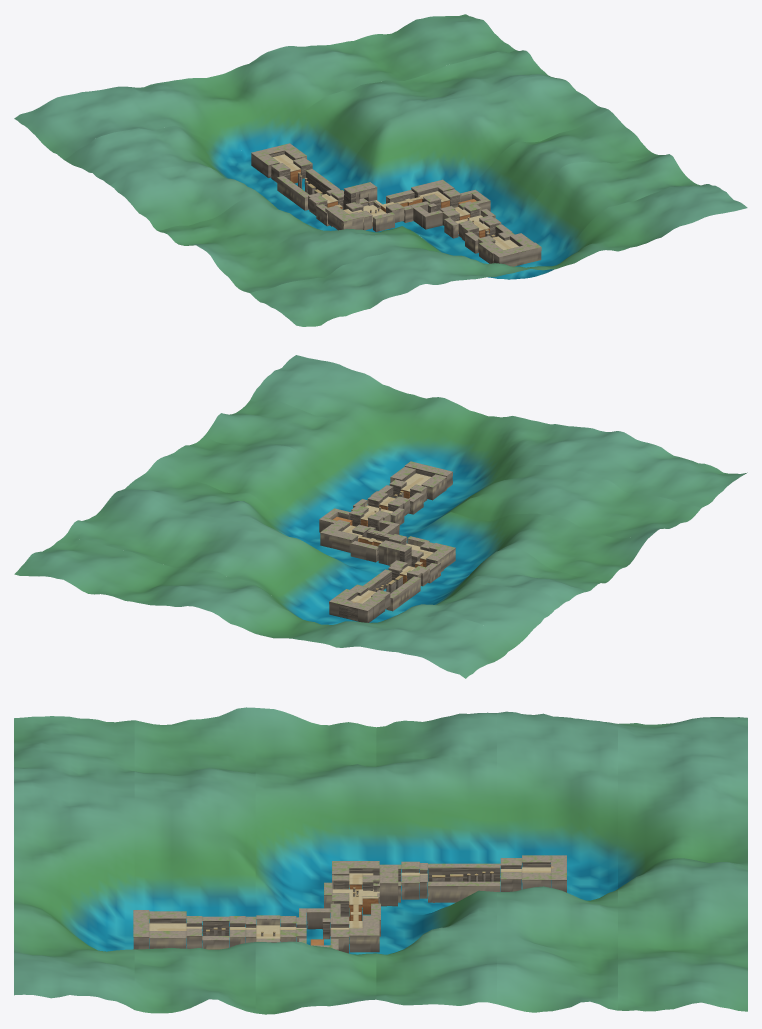
File: coral_cove_terrain.glb
3 views of the same model, one above another, from view 1: azimuth 30°, elevation 25°; view 2: azimuth 150°, elevation 25°; view 3: azimuth 270°, elevation 25° (orthographic). The views are drawn at different scales.
Visible parts, largest first — view 1: backdrop_5, backdrop_3, backdrop_4, backdrop_1, backdrop_0, backdrop_2, terrain_F, terrain_J, terrain_D, terrain_A, terrain_G, terrain_E (+3 smaller); view 2: backdrop_0, backdrop_1, backdrop_5, backdrop_4, backdrop_2, backdrop_3, terrain_J, terrain_E, terrain_D, terrain_A, terrain_F, terrain_G (+3 smaller); view 3: backdrop_5, backdrop_0, backdrop_4, backdrop_1, backdrop_3, backdrop_2, terrain_F, terrain_I, terrain_J, terrain_A, terrain_B, terrain_G (+3 smaller).
Part boxes in pixels (left/top/right/bottom): backdrop_5: left=14, top=14, right=515, bottom=159; backdrop_3: left=110, top=76, right=608, bottom=230; backdrop_4: left=64, top=50, right=560, bottom=195; backdrop_1: left=204, top=154, right=700, bottom=292; backdrop_0: left=250, top=184, right=747, bottom=326; backdrop_2: left=157, top=109, right=654, bottom=255; terrain_F: left=344, top=182, right=404, bottom=231; terrain_J: left=251, top=143, right=312, bottom=183; terrain_D: left=410, top=189, right=490, bottom=229; terrain_A: left=479, top=233, right=541, bottom=266; terrain_G: left=309, top=190, right=363, bottom=230; terrain_E: left=386, top=179, right=454, bottom=222; backdrop_0: left=250, top=355, right=747, bottom=507; backdrop_1: left=203, top=400, right=701, bottom=538; backdrop_5: left=14, top=537, right=515, bottom=678; backdrop_4: left=64, top=495, right=561, bottom=646; backdrop_2: left=157, top=437, right=654, bottom=581; backdrop_3: left=111, top=461, right=607, bottom=612; terrain_J: left=329, top=584, right=390, bottom=622; terrain_E: left=320, top=524, right=392, bottom=562; terrain_D: left=319, top=508, right=399, bottom=537; terrain_A: left=390, top=461, right=452, bottom=500; terrain_F: left=378, top=534, right=434, bottom=567; terrain_G: left=389, top=543, right=455, bottom=586; backdrop_5: left=618, top=717, right=747, bottom=1011; backdrop_0: left=14, top=716, right=134, bottom=1009; backdrop_4: left=497, top=711, right=617, bottom=1012; backdrop_1: left=134, top=707, right=255, bottom=1013; backdrop_3: left=376, top=712, right=496, bottom=1005; backdrop_2: left=255, top=708, right=376, bottom=1014; terrain_F: left=324, top=866, right=398, bottom=920; terrain_I: left=428, top=863, right=500, bottom=902; terrain_J: left=500, top=855, right=566, bottom=892; terrain_A: left=133, top=910, right=186, bottom=949; terrain_B: left=186, top=916, right=245, bottom=949; terrain_G: left=332, top=861, right=419, bottom=902.
Bounding box in the file's own units: 511 × 63.49 × 553.
